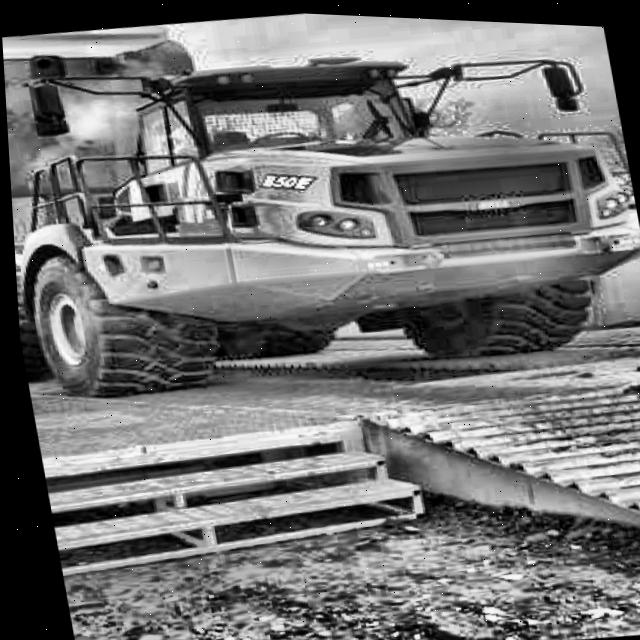dump_truck: (0, 0, 640, 454)
